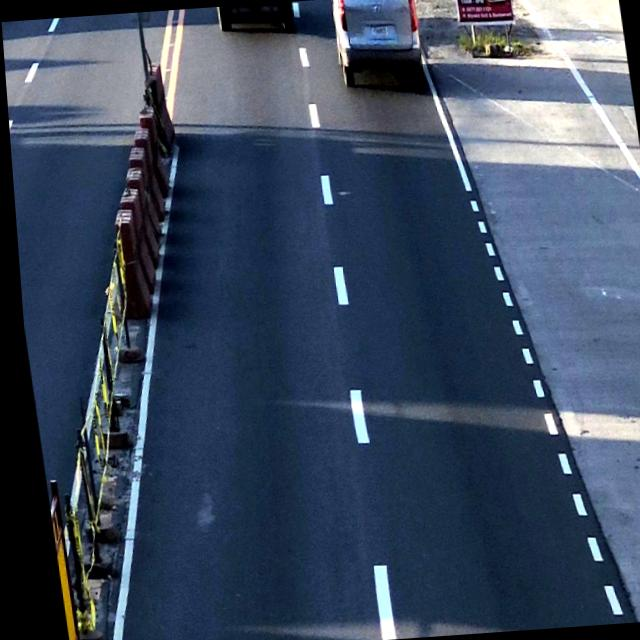Car: (325, 0, 432, 90)
